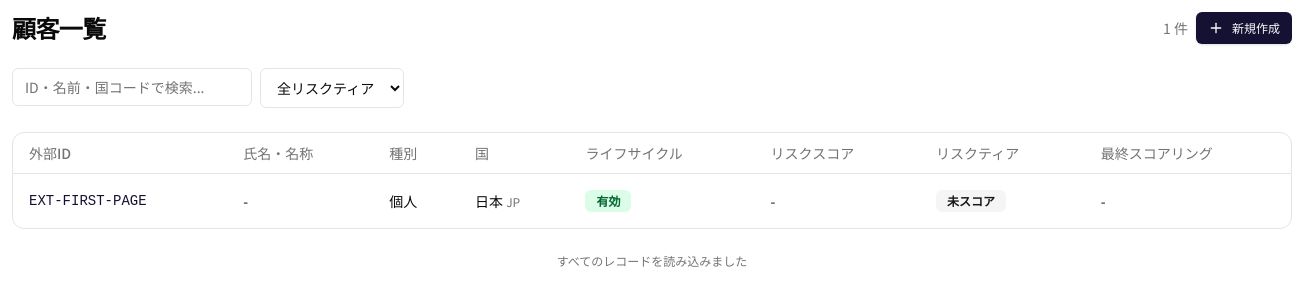
Test case: sends customer search to the server
Check: the link "EXT-FIRST-PAGE" is shown, box [29,192,147,208]
Type "NEEDLE" into the field with placeholder "ID・名前・国コードで検索...". click: point(132, 87)
box: [12,68,252,106]
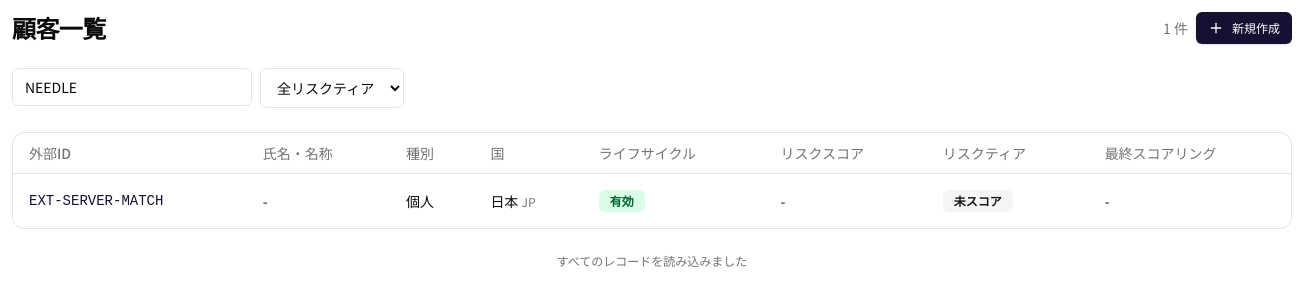
Check: the link "EXT-SERVER-MATCH" is shown, box [29,192,163,208]
